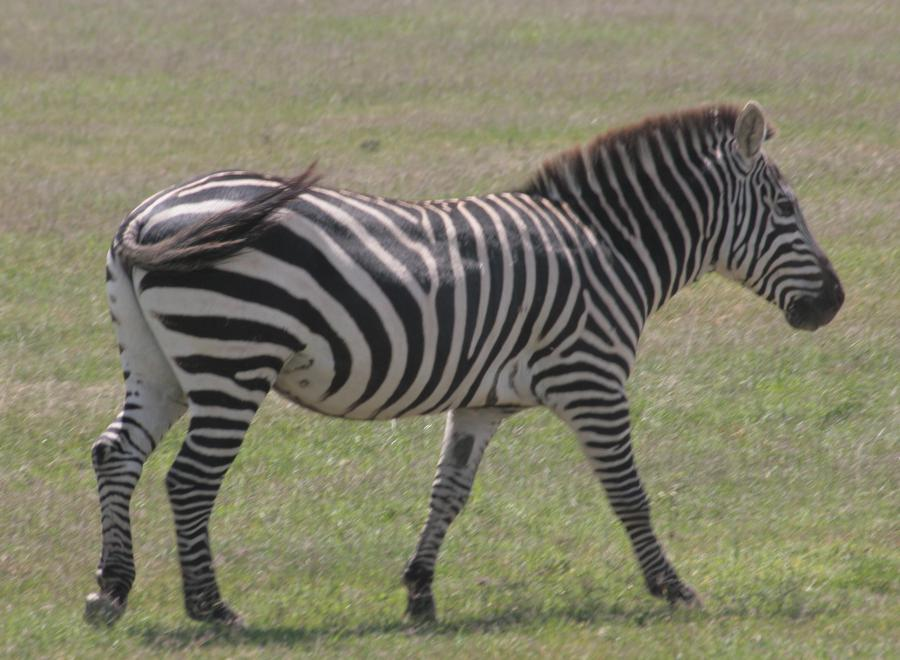zebra_plains: (158, 170, 641, 426)
